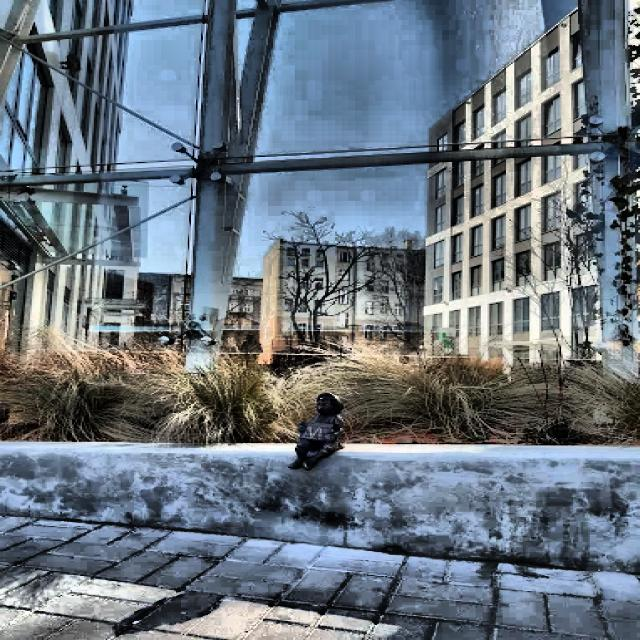Krasnal_Millenniowski: (288, 393, 347, 471)
